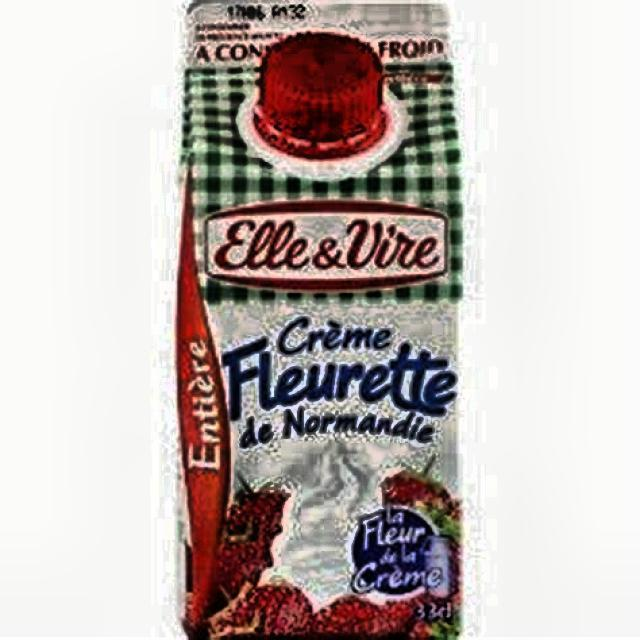cardboard: (171, 0, 466, 639)
